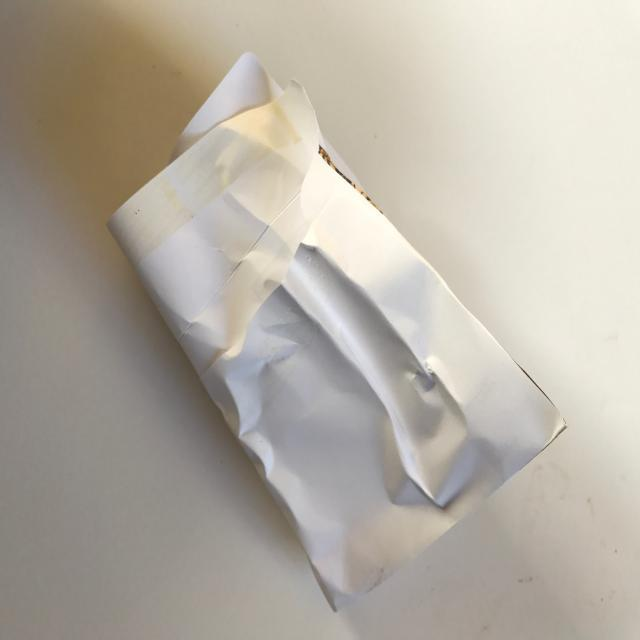paper: (105, 49, 568, 614)
